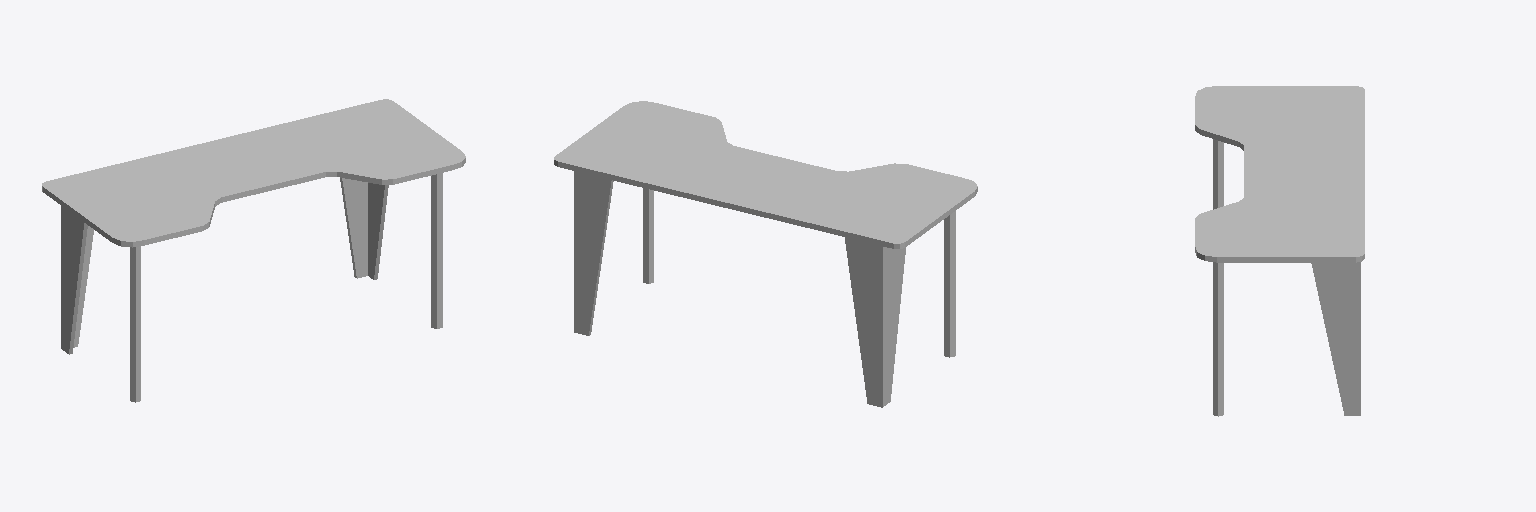
The model's file is office_table_001.obj.
3 renders of one model, left to right at view 1: azimuth 30°, elevation 25°; view 2: azimuth 150°, elevation 25°; view 3: azimuth 270°, elevation 25°, orthographic.
Parts seen in each view (by area): view 1: office_table_001; view 2: office_table_001; view 3: office_table_001.
Part boxes in pixels (left/top/right/bottom): office_table_001: left=42, top=99, right=465, bottom=402; office_table_001: left=554, top=101, right=977, bottom=407; office_table_001: left=1195, top=86, right=1364, bottom=416.
Bounding box in the file's own units: 1.58 × 0.7293 × 0.663.